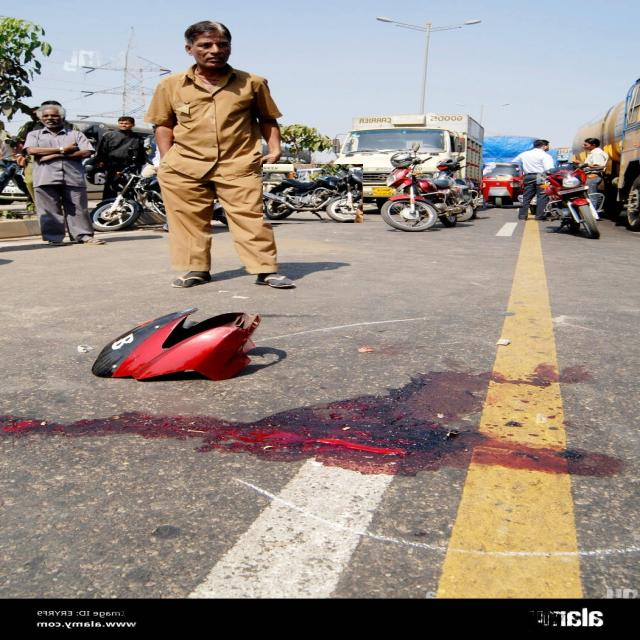autorickshaw: (483, 162, 522, 208)
motorcycle: (380, 151, 470, 231), (263, 165, 362, 223), (542, 164, 602, 239)
truck: (330, 112, 484, 204)
